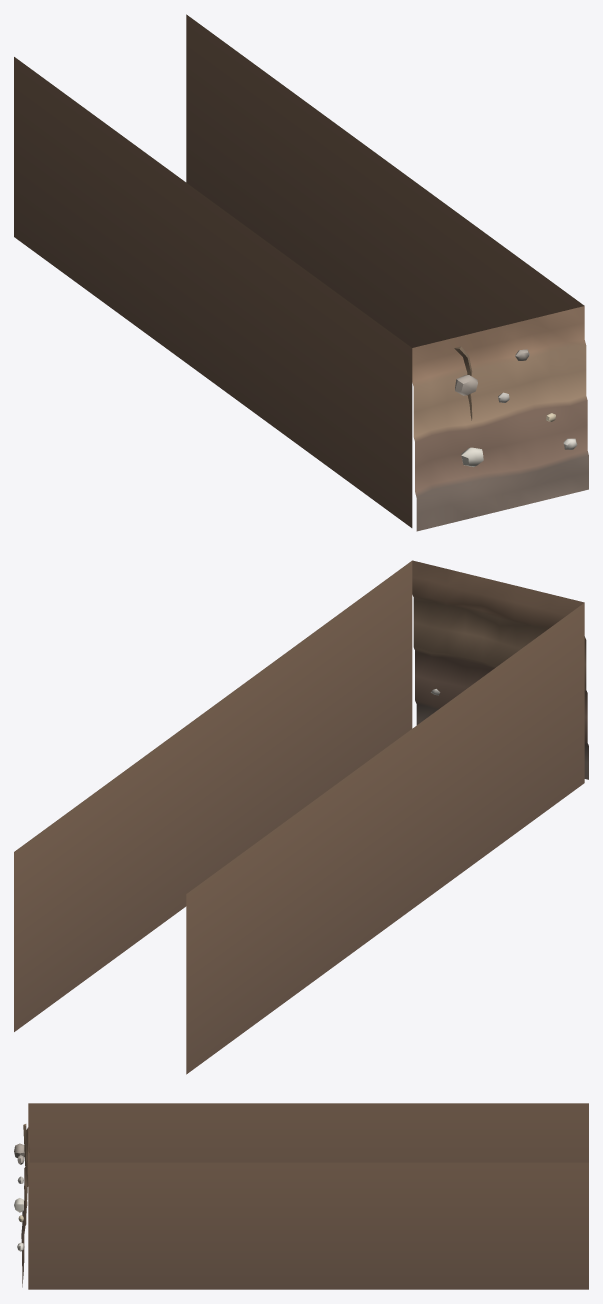
Rendered from ground_earth_4.glb.
The picture shows the model from 3 angles, top to bottom: view 1: azimuth 30°, elevation 25°; view 2: azimuth 150°, elevation 25°; view 3: azimuth 270°, elevation 25°; orthographic projection. The views are drawn at different scales.
Parts seen in each view (by area): view 1: ground_earth_4; view 2: ground_earth_4; view 3: ground_earth_4.
Boxes of the visible parts, <box> form: ground_earth_4: <box>14,14,588,531</box>; ground_earth_4: <box>14,560,588,1074</box>; ground_earth_4: <box>14,1103,588,1289</box>.
Bounding box in the file's own units: 1 × 1 × 4.1.
